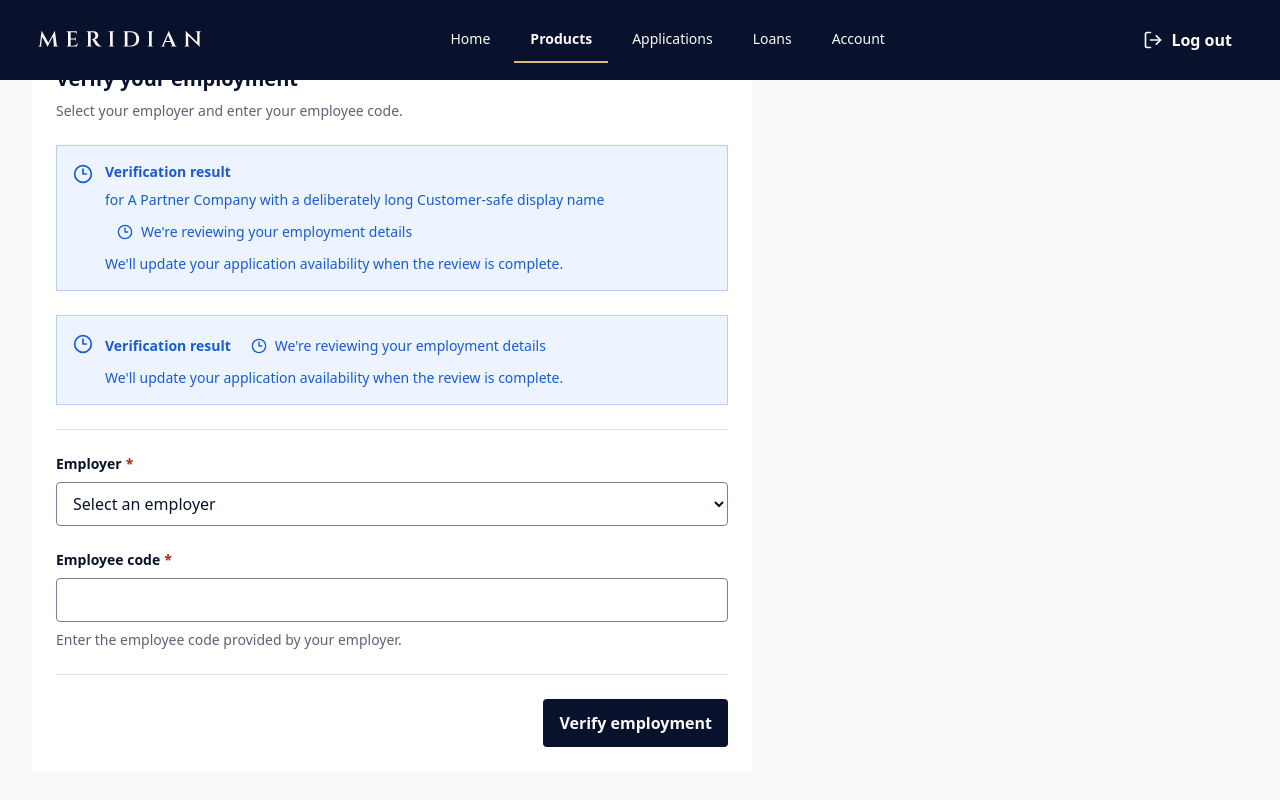
Test: FE-CP6 Salary Advance product readiness › fresh exact verification clears obsolete alternative company reviews and uses normal readiness
(page scrolled)
Expected: the text "We're reviewing your employment details" is shown 2 times, [141,222,412,242]; [275,336,546,356]
Select "A Partner Company with a deliberately long Customer-safe display name (MER-LONG)" in the dropdown labelled "Employer*" at (392, 504), box [56,482,728,526]
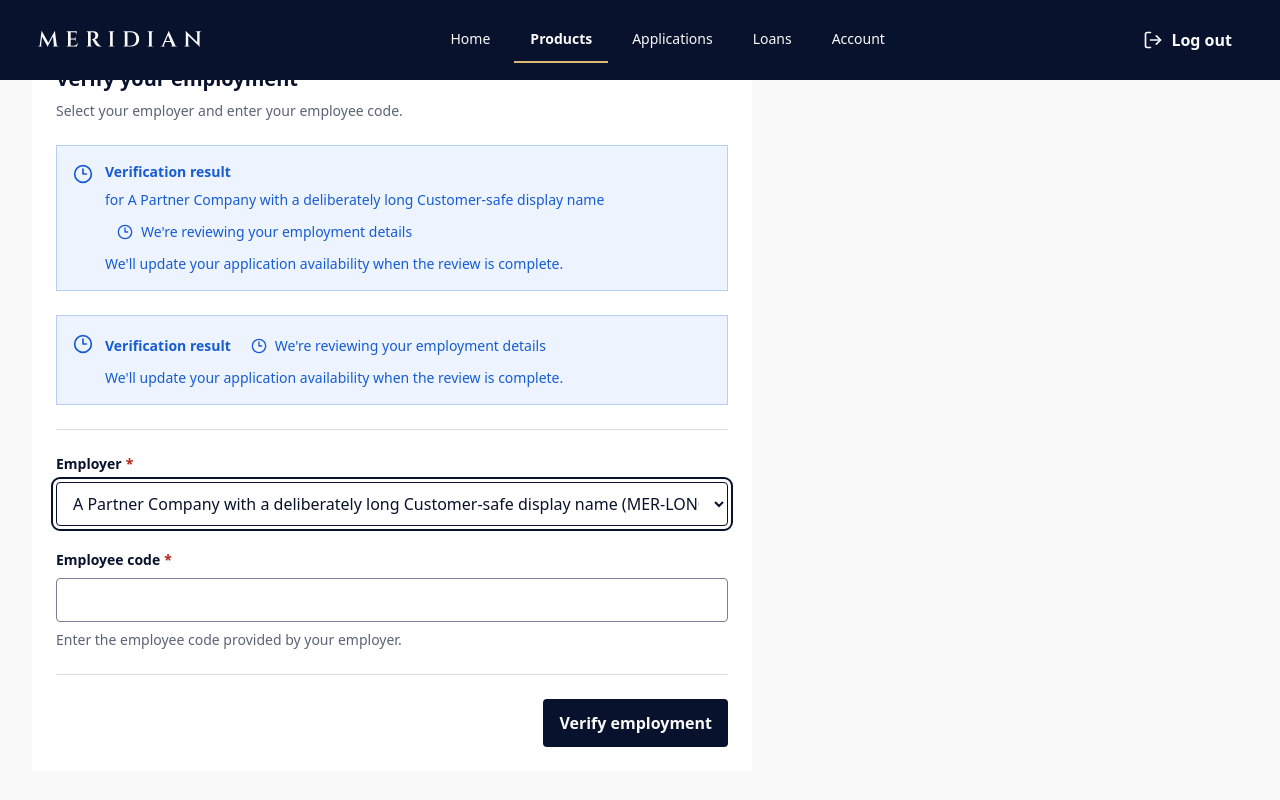
Type "CURRENT-EMPLOYEE" into the field labelled "Employee code*" at (392, 600), box [56,578,728,622]
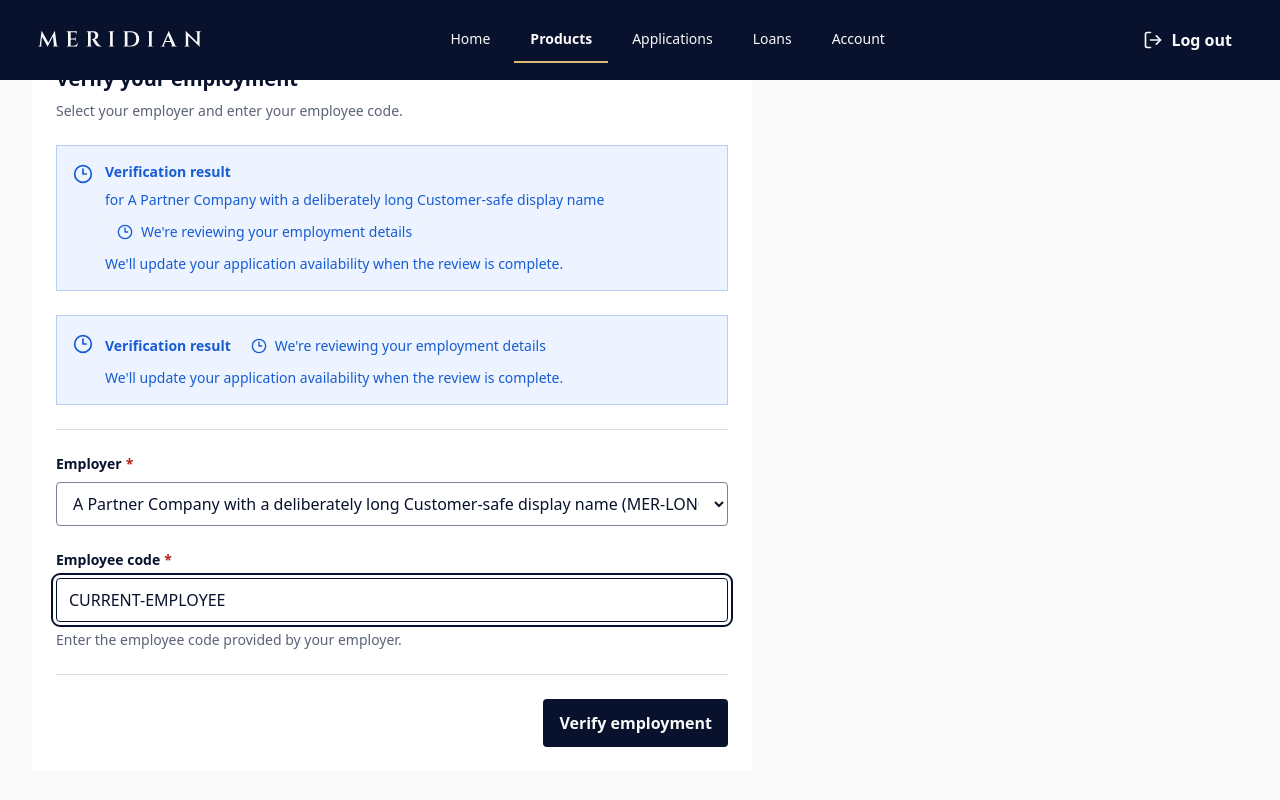
Click the button "Verify employment" at (636, 723), box [543,699,728,747]
(page scrolled)
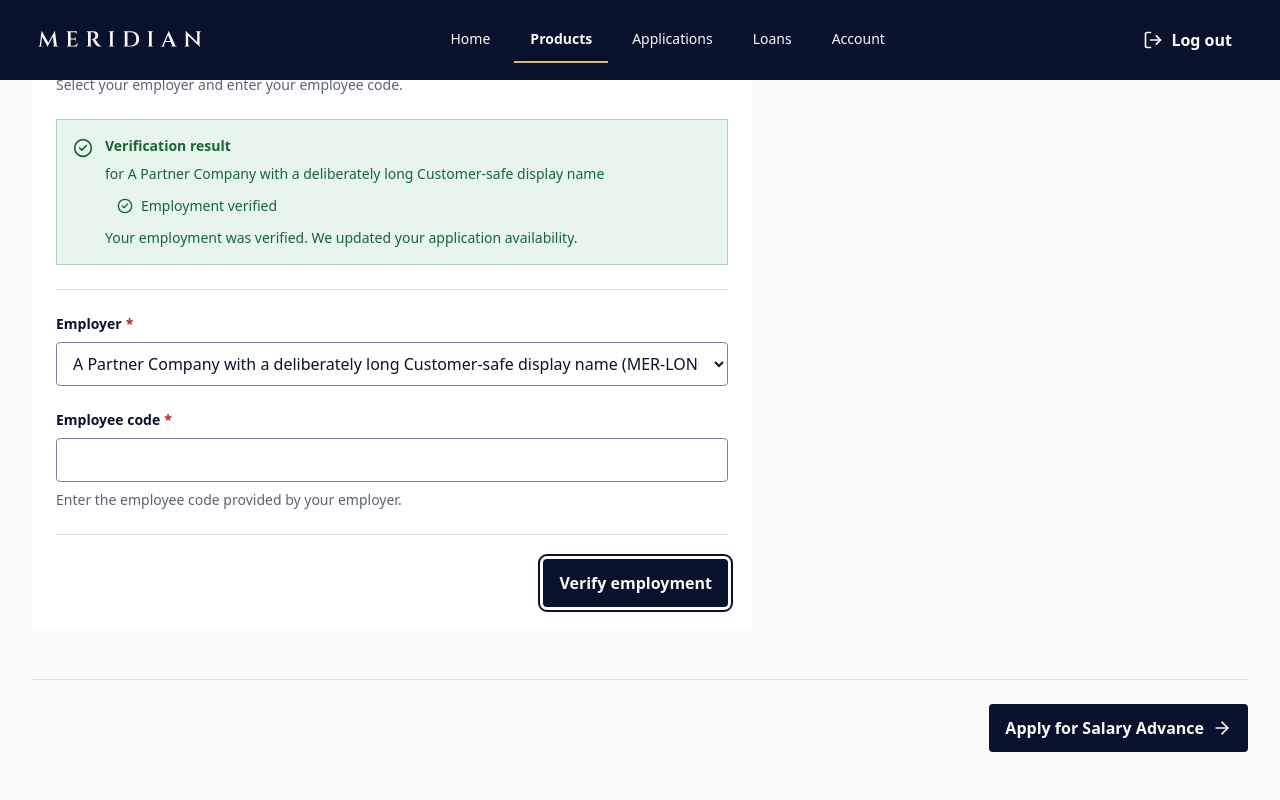
Now the link "Apply for Salary Advance" is shown, box [989,704,1248,752]
Now the text "We're reviewing your employment details" is gone
